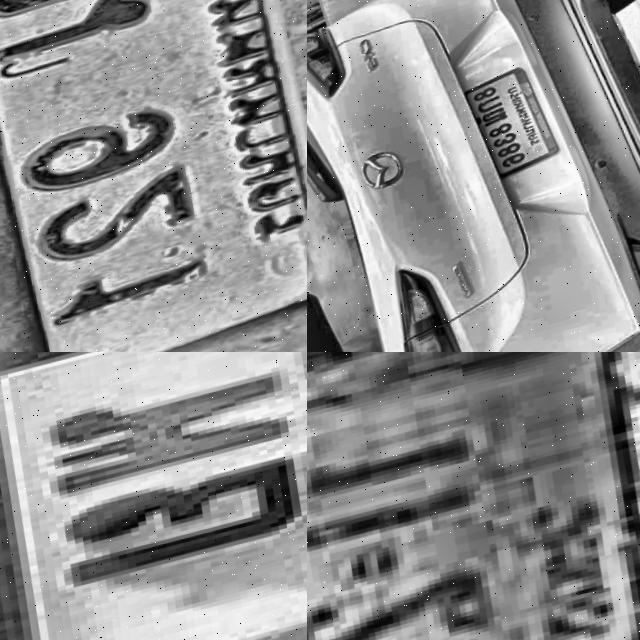license-plate: (0, 0, 307, 352), (307, 352, 640, 640), (0, 352, 307, 640), (454, 61, 573, 192)
